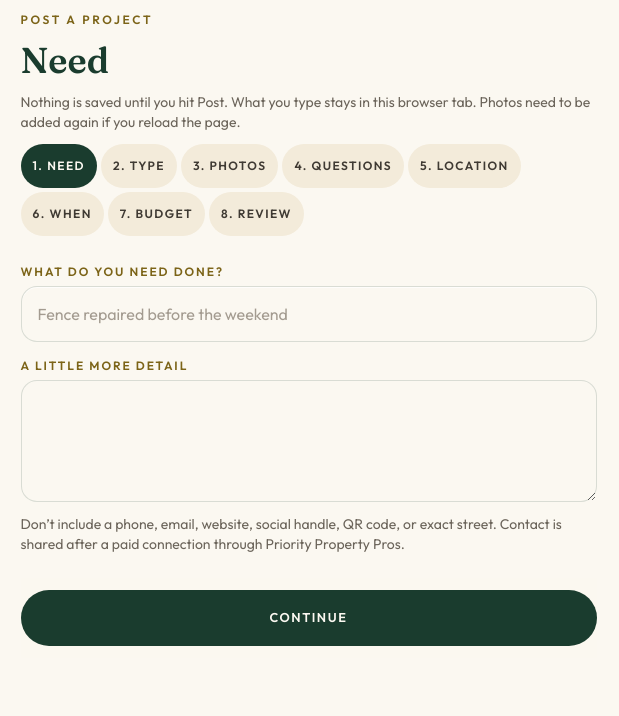
post-a-project wizard › labels every Questions step field
The width and height of the screenshot is (619, 716).
Type "Fence repair" into the field labelled "What do you need done?" at x=308, y=314, box [20, 286, 596, 342]
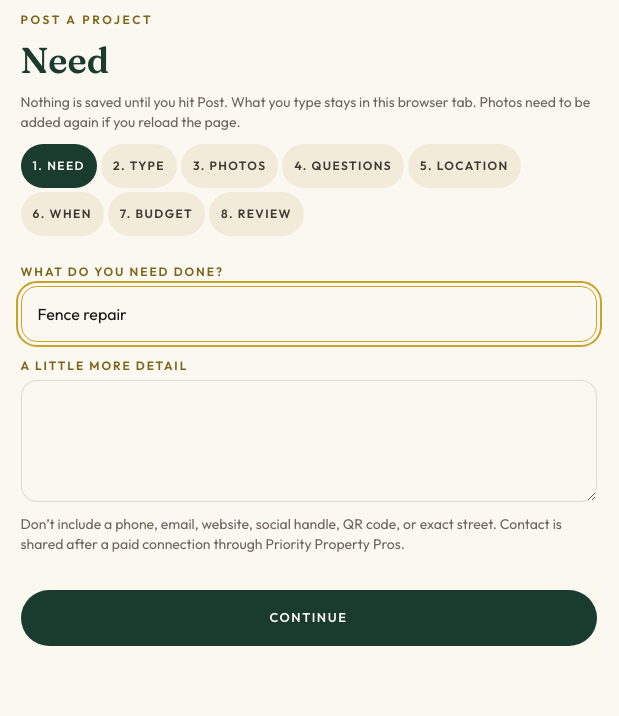
Click the button "Continue" at x=308, y=618, box [20, 590, 596, 646]
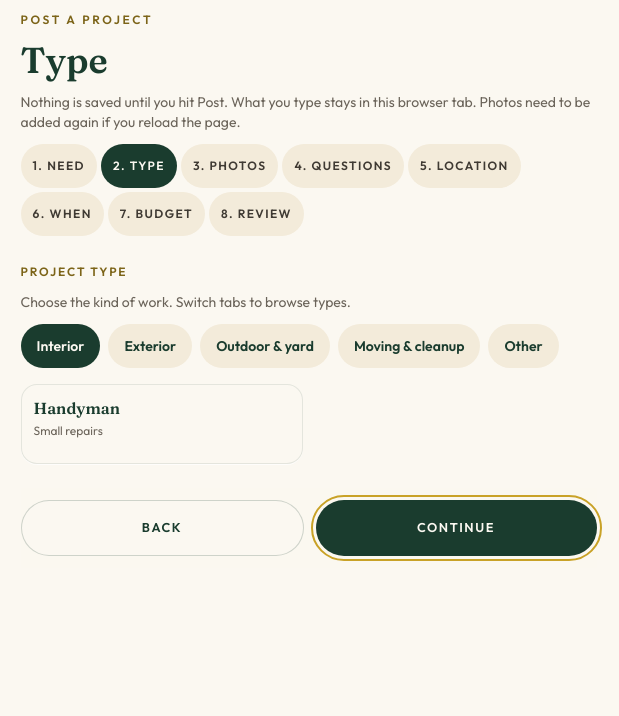
Click the radio button labelled "Handyman Small repairs" at x=77, y=408, box [20, 384, 302, 464]
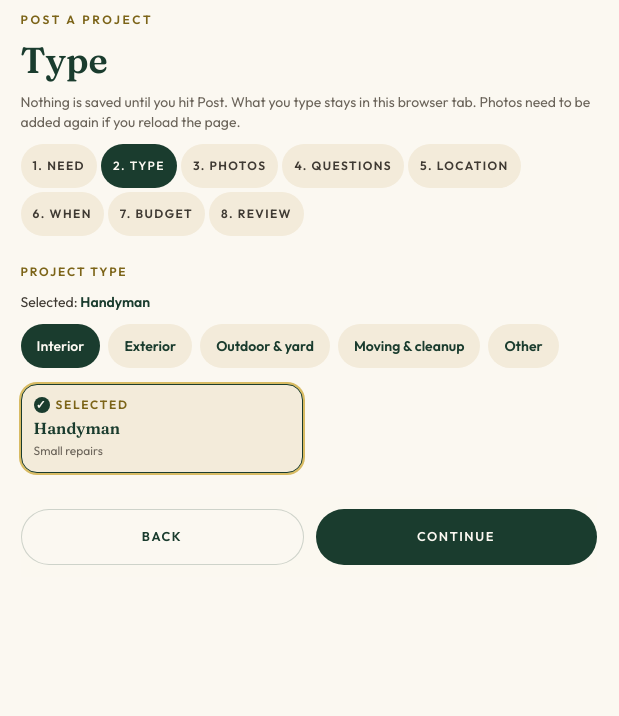
Click the button "Continue" at x=456, y=536, box [316, 508, 596, 564]
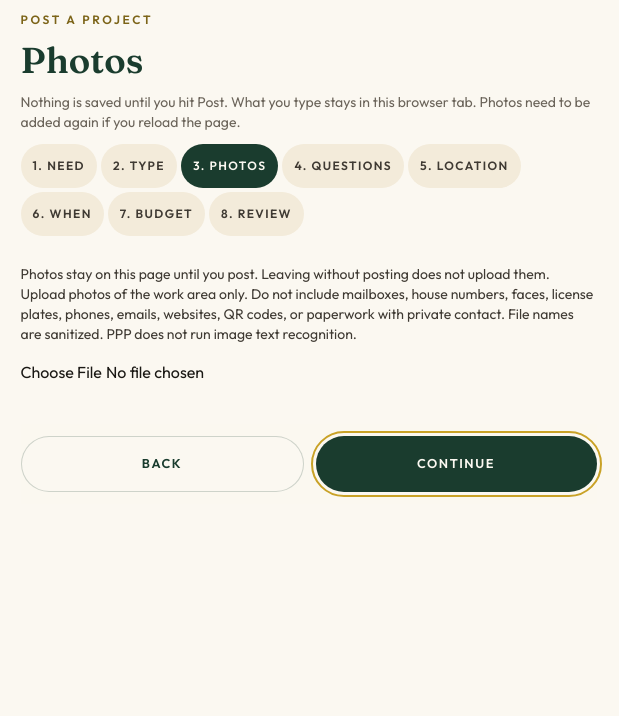
Click the button "Continue" at x=456, y=464, box [316, 436, 596, 492]
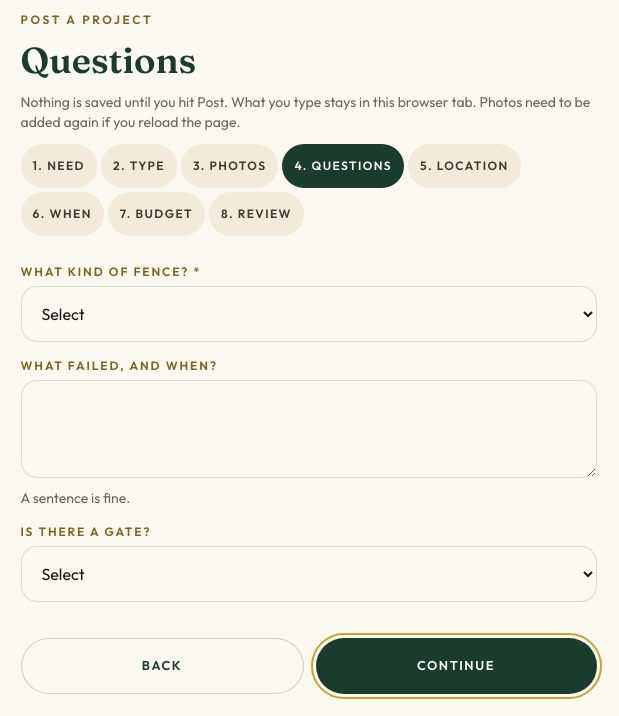
Result: the dropdown labelled "What kind of fence? *" is shown at [20, 286, 596, 342]
Result: the dropdown labelled "Is there a gate?" is shown at [20, 546, 596, 602]
